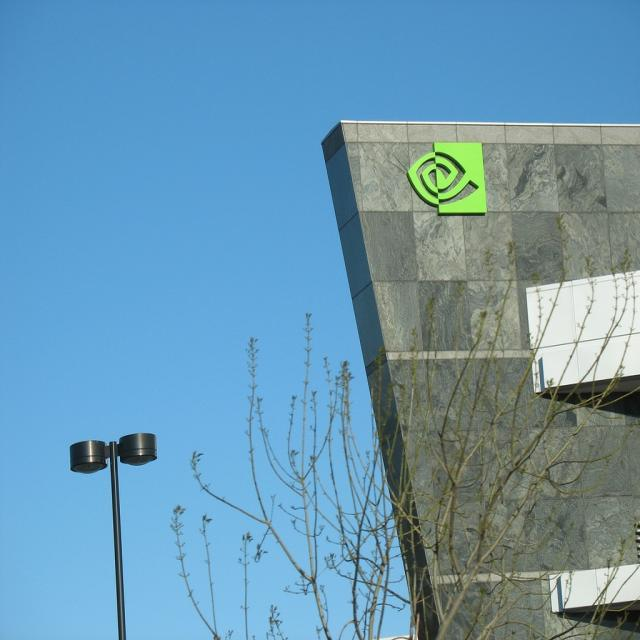nvidia: (408, 141, 489, 218)
